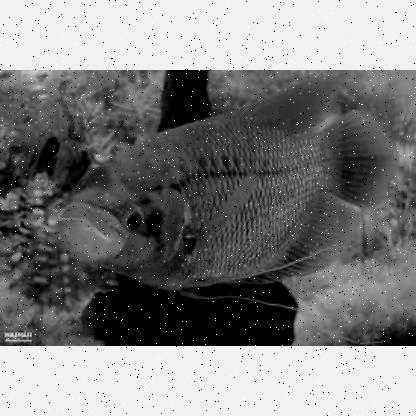gurame: (55, 88, 376, 302)
